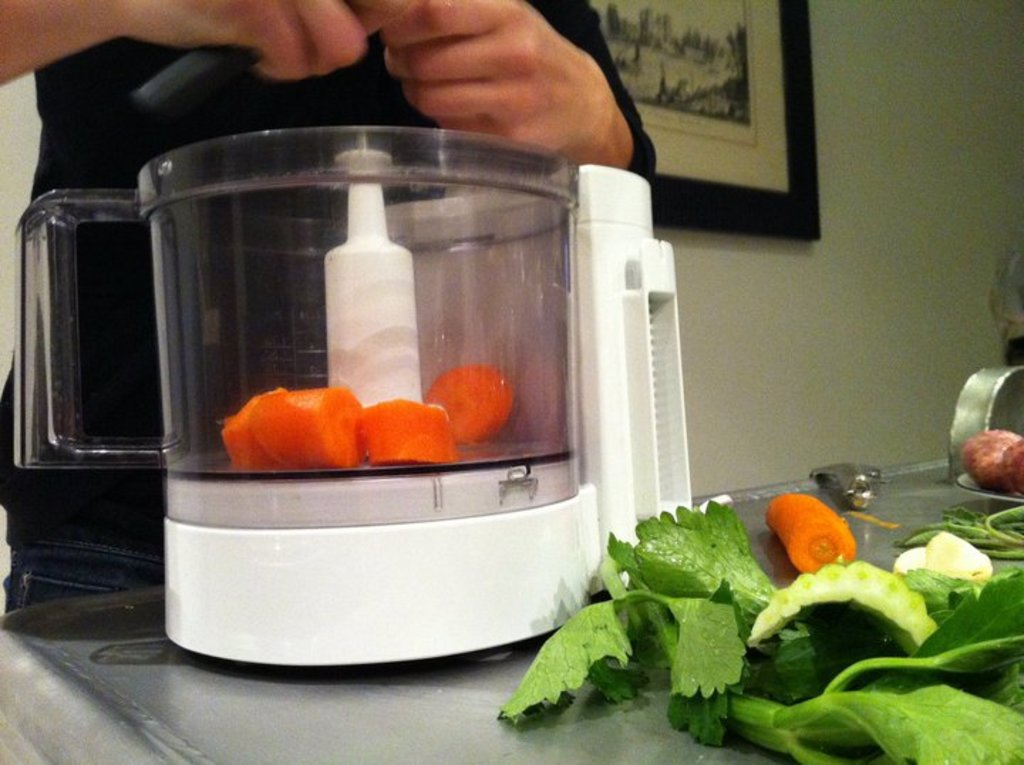Carrot: (241, 382, 366, 464), (426, 362, 519, 453), (775, 501, 860, 598), (365, 398, 460, 462), (221, 386, 291, 466)
